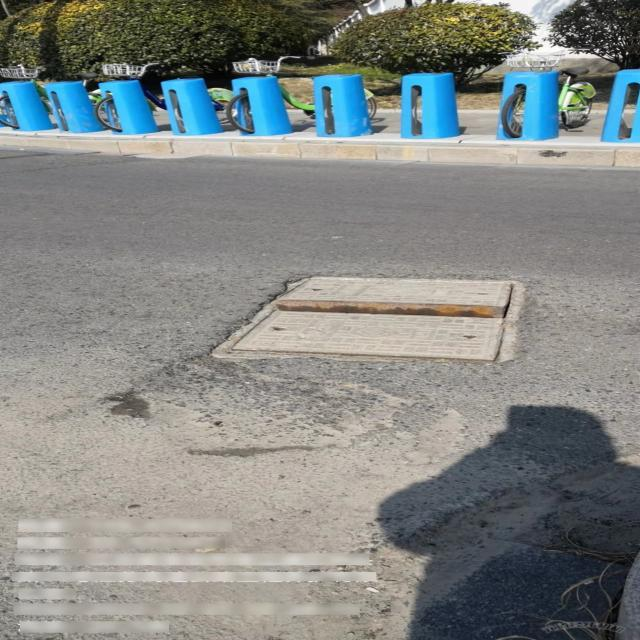Lose: (213, 276, 529, 364)
